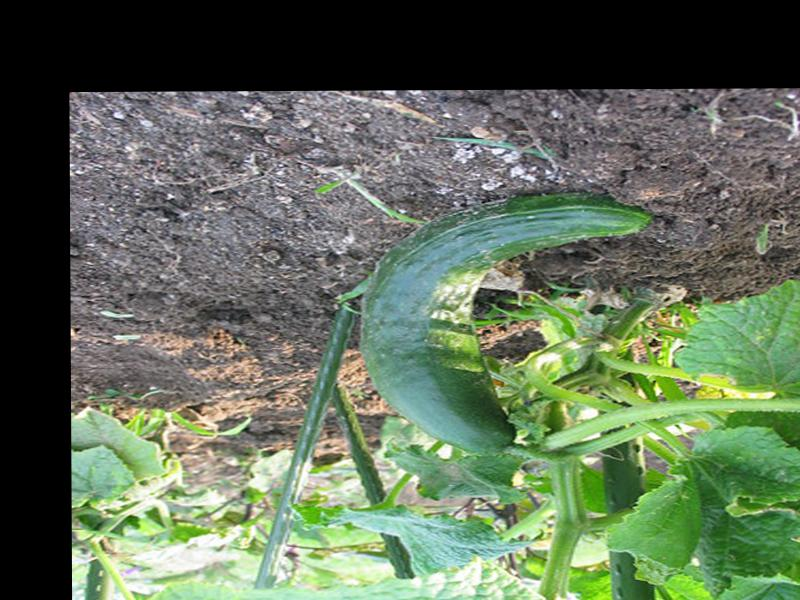Cucumber: (357, 191, 655, 456)
